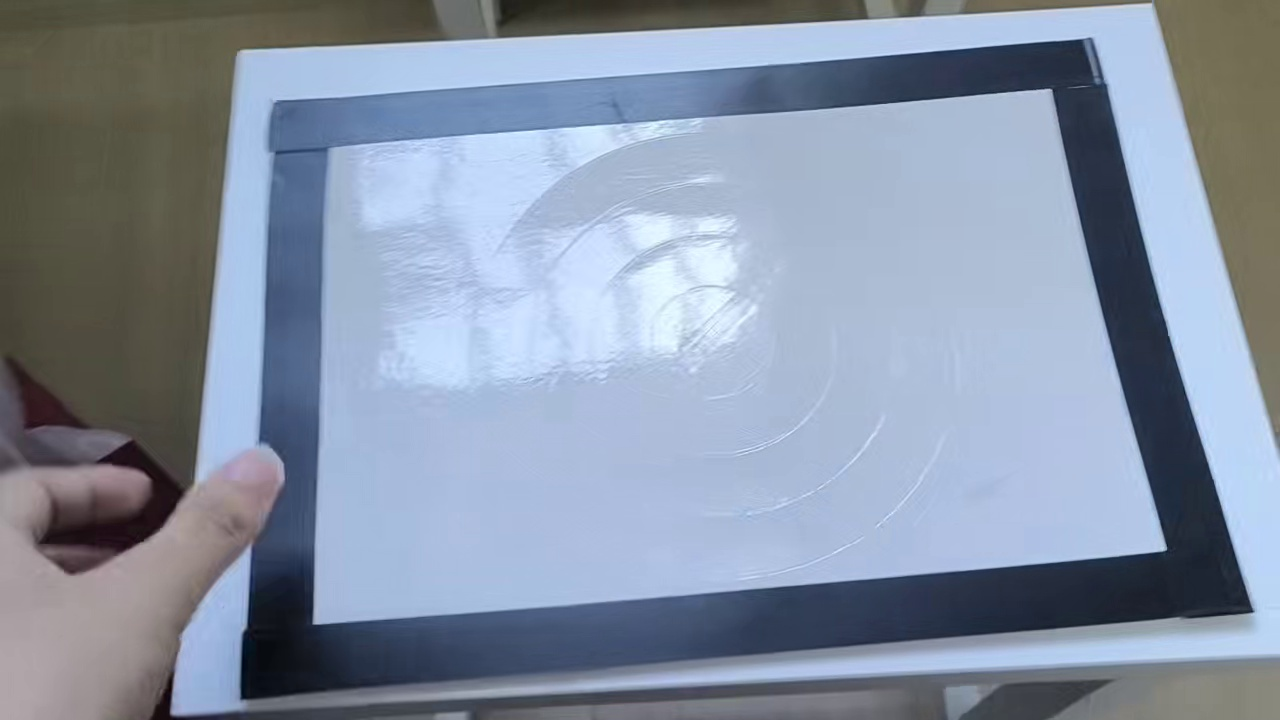board: (246, 39, 1250, 695)
